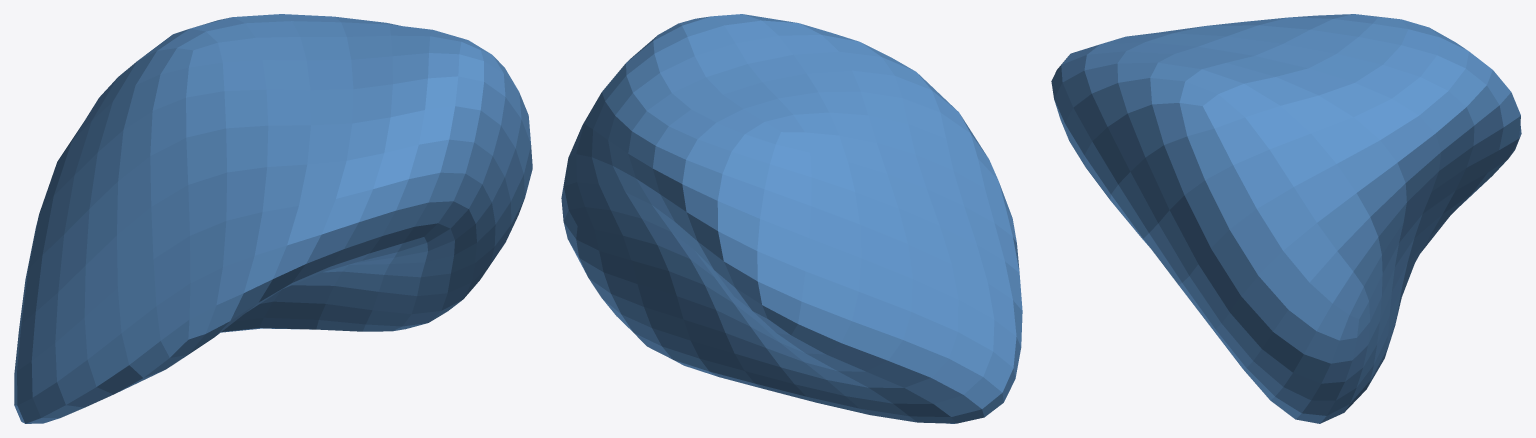
The model's file is snow4.obj.
3 views of the same model, side by side, from view 1: azimuth 30°, elevation 25°; view 2: azimuth 150°, elevation 25°; view 3: azimuth 270°, elevation 25° (orthographic). The views are drawn at different scales.
Parts seen in each view (by area): view 1: Cube; view 2: Cube; view 3: Cube.
Part boxes in pixels (bbox=[...]): Cube: bbox=[14, 14, 532, 423]; Cube: bbox=[561, 14, 1022, 423]; Cube: bbox=[1051, 14, 1521, 423].
Bounding box in the file's own units: 4.12 × 2.6 × 3.25.
